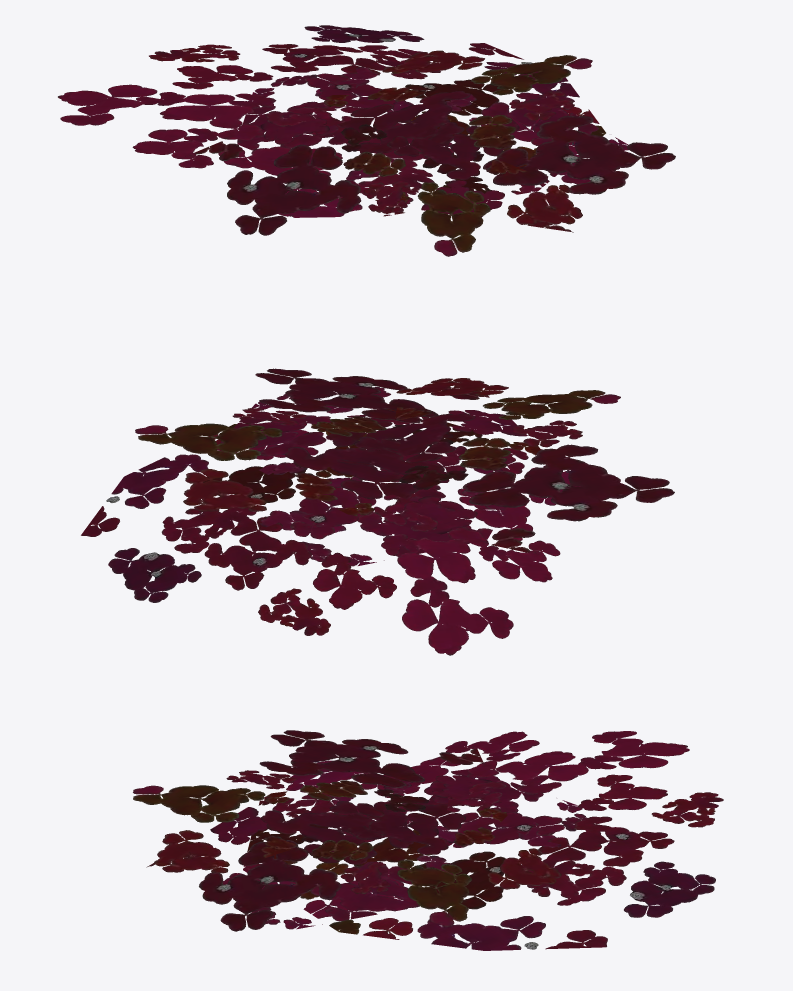
3 renders of one model, top to bottom at view 1: azimuth 30°, elevation 25°; view 2: azimuth 150°, elevation 25°; view 3: azimuth 270°, elevation 25°, orthographic. The views are drawn at different scales.
Parts seen in each view (by area): view 1: SM_WT_Sorrel_01_A_LOD0; view 2: SM_WT_Sorrel_01_A_LOD0; view 3: SM_WT_Sorrel_01_A_LOD0.
Boxes of the visible parts, <box> form: SM_WT_Sorrel_01_A_LOD0: <box>58,25,675,256</box>; SM_WT_Sorrel_01_A_LOD0: <box>81,368,674,655</box>; SM_WT_Sorrel_01_A_LOD0: <box>133,730,723,950</box>.
Size of the model in its own units: 1.2 by 0.1006 by 1.31.
1 material, 1 textured.
